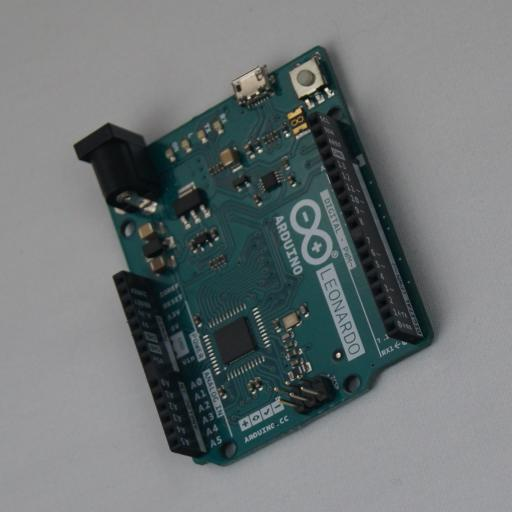Arduino Leonardo: (73, 46, 440, 466)
